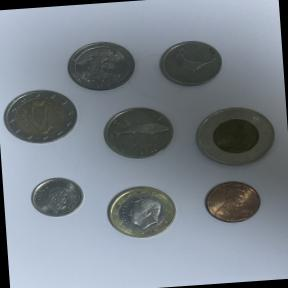coin: (186, 98, 286, 179), (97, 178, 186, 246), (96, 98, 180, 167), (0, 85, 81, 149), (63, 38, 140, 96), (198, 175, 270, 231), (26, 170, 91, 223)
